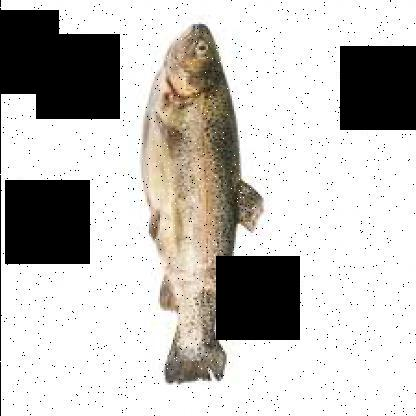fish: (140, 22, 262, 382)
